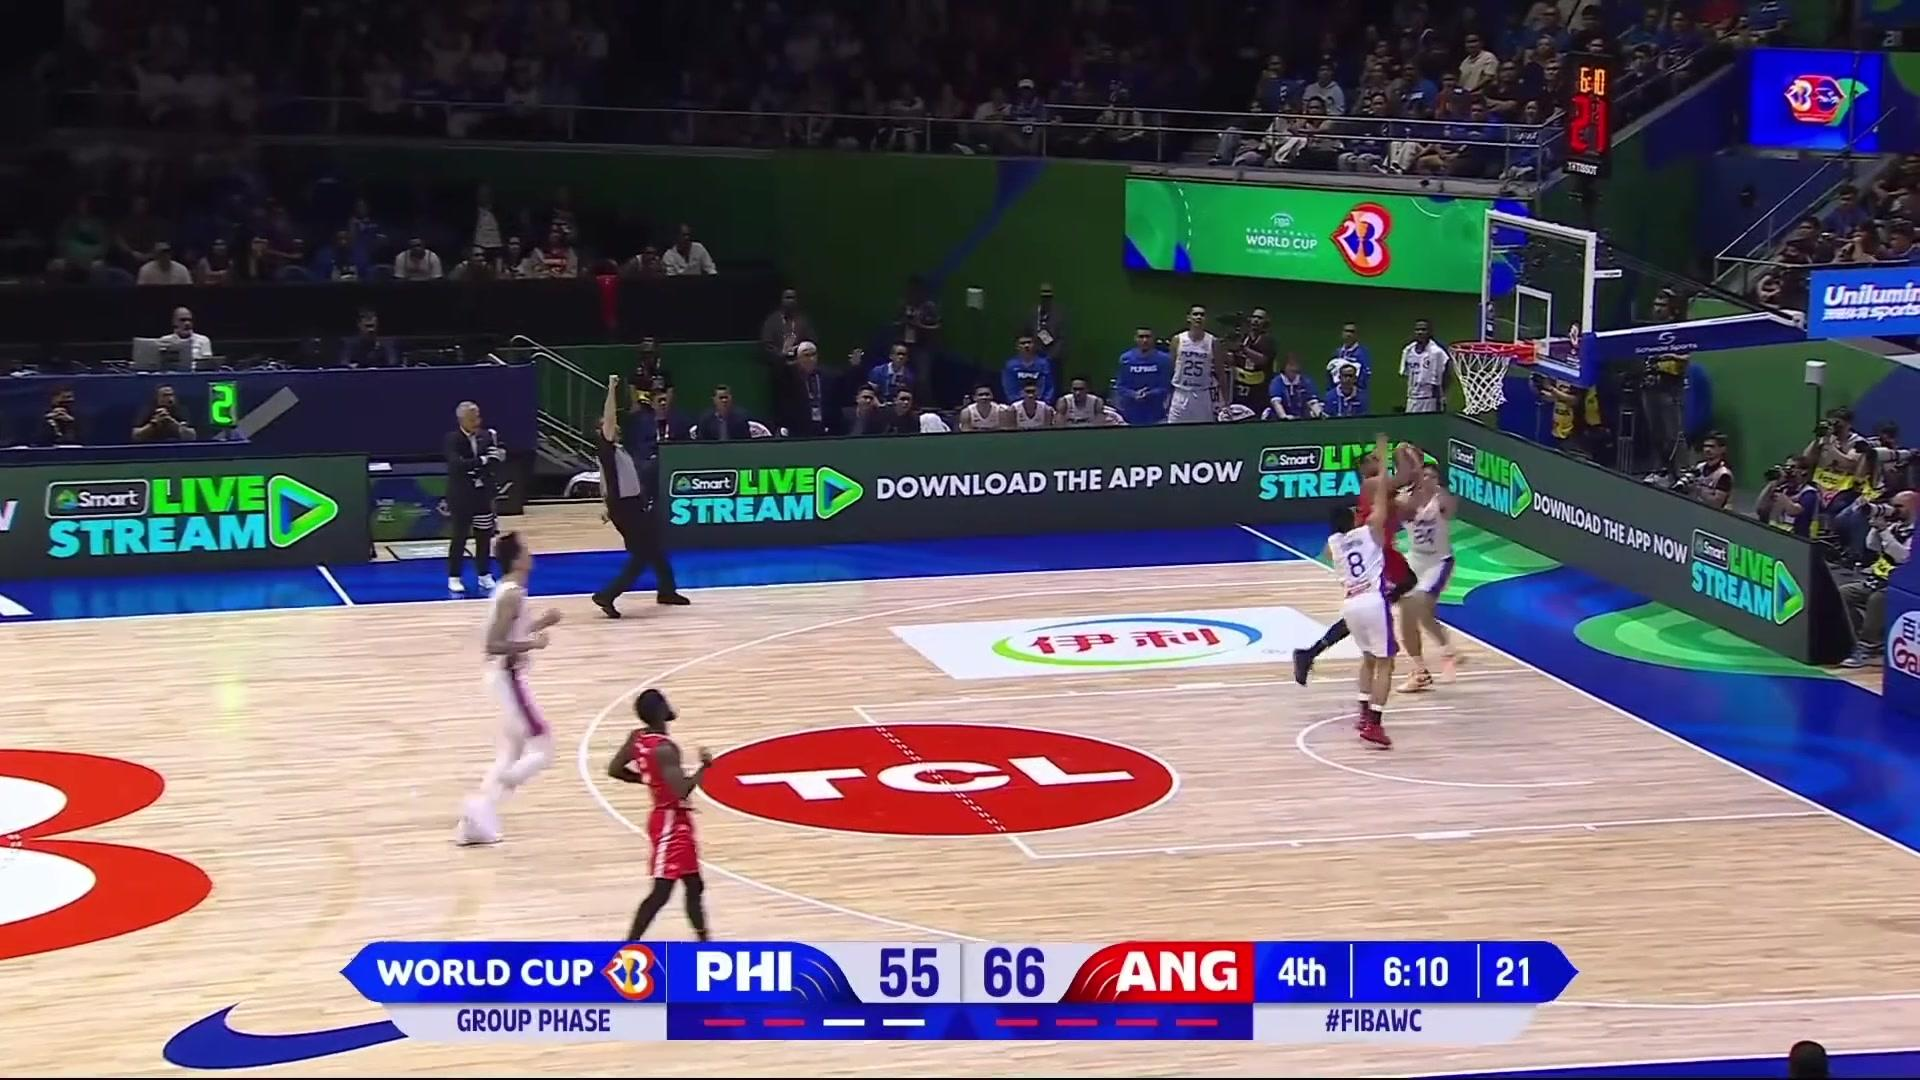foul: (1274, 433, 1487, 731)
